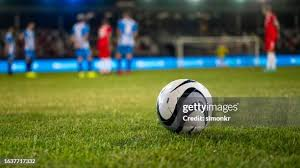football ball: (153, 77, 216, 131)
